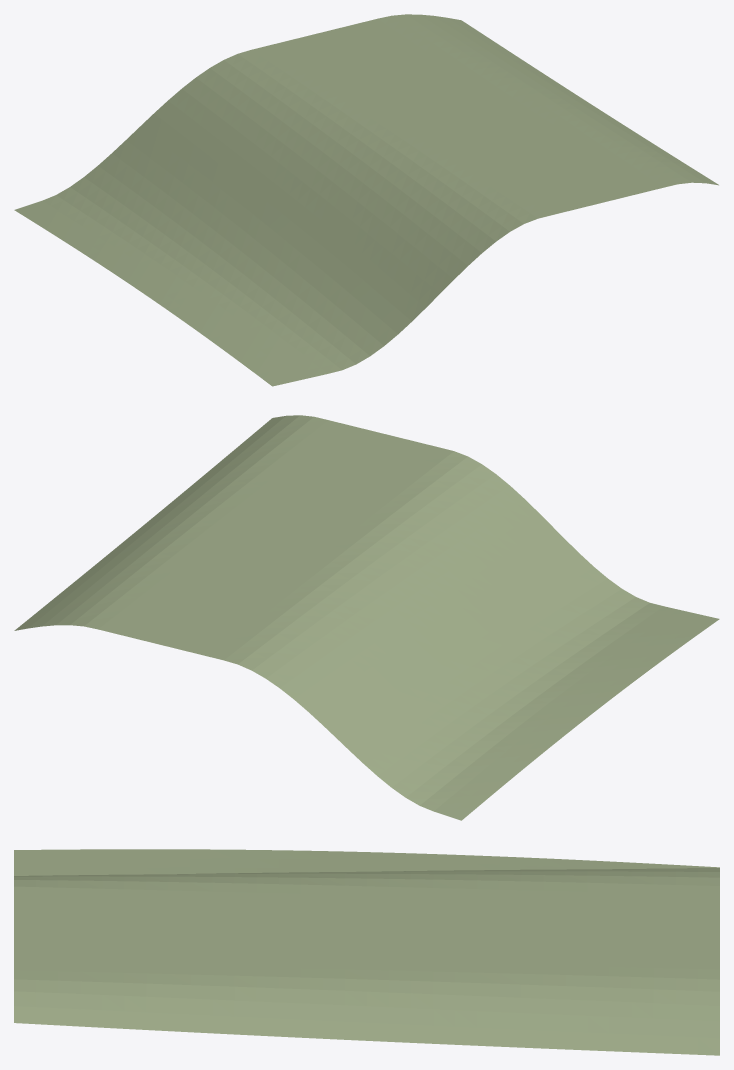
Rendered from alpine-2-5.glb.
3 renders of one model, top to bottom at view 1: azimuth 30°, elevation 25°; view 2: azimuth 150°, elevation 25°; view 3: azimuth 270°, elevation 25°, orthographic. The views are drawn at different scales.
Parts seen in each view (by area): view 1: alpine-2-5; view 2: alpine-2-5; view 3: alpine-2-5.
Boxes of the visible parts, box(x1,y1,x2,y2) form: alpine-2-5: box(14, 14, 718, 386); alpine-2-5: box(14, 415, 719, 820); alpine-2-5: box(14, 849, 719, 1055).
Bounding box in the file's own units: 256 × 63.38 × 256.
